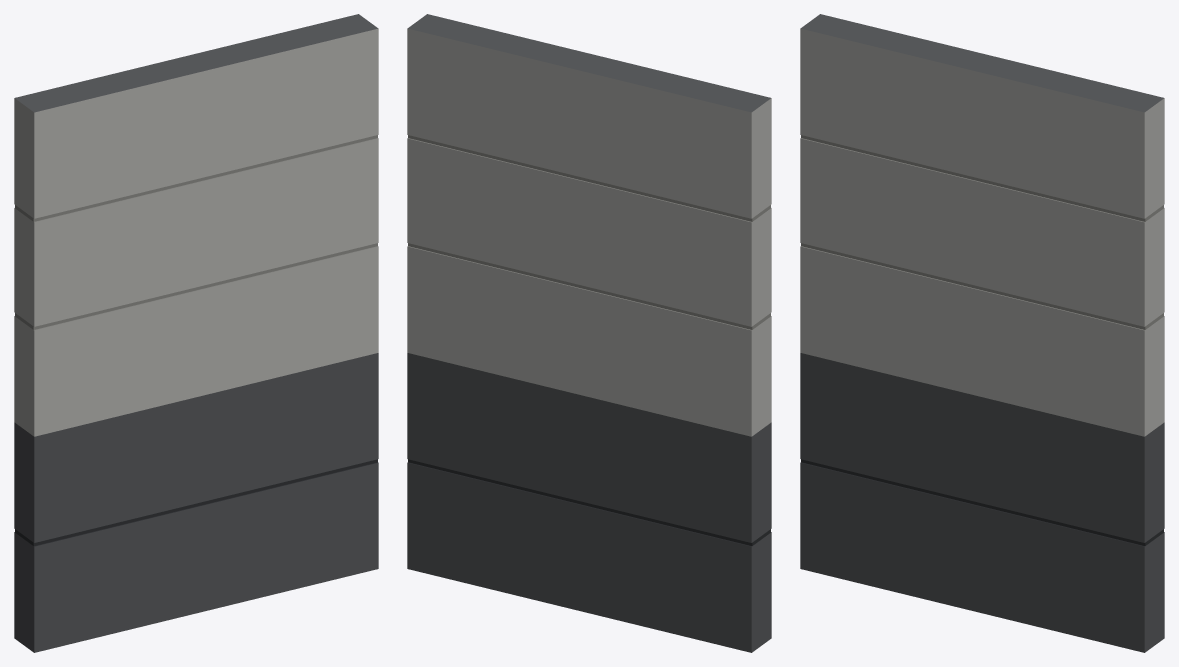
Rendered from SM_Workshop_Wall_Block_01.fbx.
The picture shows the model from 3 angles, left to right: view 1: azimuth 30°, elevation 25°; view 2: azimuth 150°, elevation 25°; view 3: azimuth 330°, elevation 25°; orthographic projection.
Visible parts, largest first — view 1: SM_Workshop_Wall_Block_01; view 2: SM_Workshop_Wall_Block_01; view 3: SM_Workshop_Wall_Block_01.
Boxes of the visible parts, left/top/right/bottom form: SM_Workshop_Wall_Block_01: left=14, top=14, right=378, bottom=652; SM_Workshop_Wall_Block_01: left=407, top=14, right=771, bottom=652; SM_Workshop_Wall_Block_01: left=800, top=14, right=1164, bottom=652.
Size of what is drawn, in the model's own units: 2 by 3 by 0.2.
Materials: 1 (1 with a texture image).
